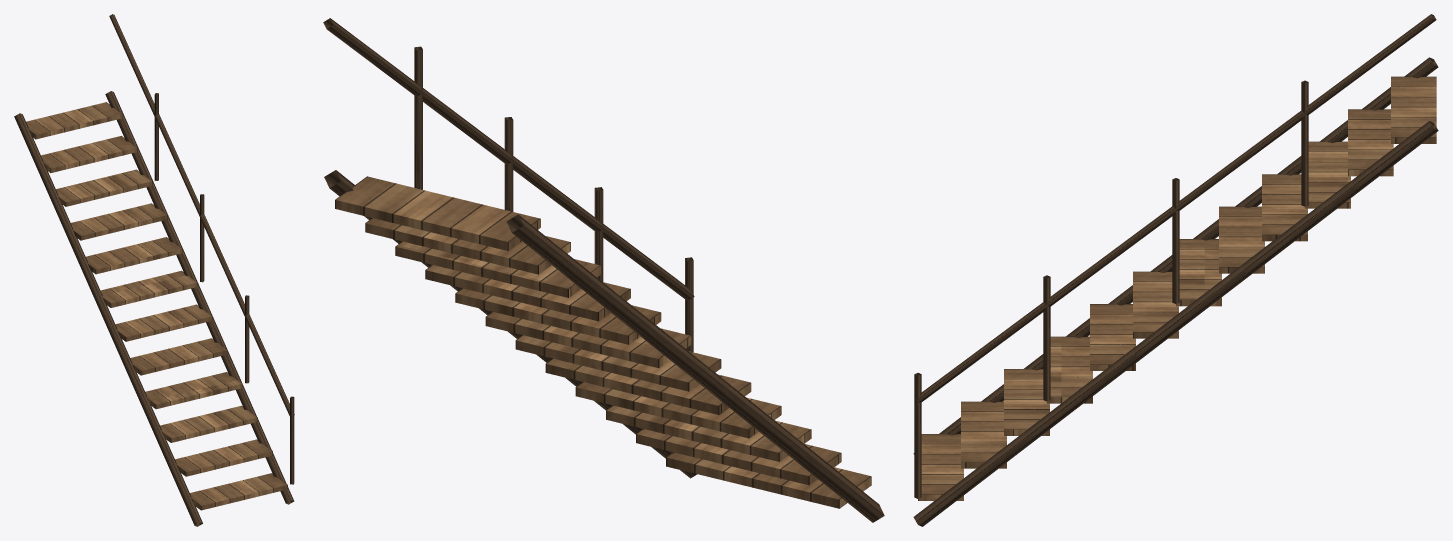
File: Stairs_Gallery_1_LOD1.gltf
3 views of the same model, side by side, from view 1: azimuth 30°, elevation 25°; view 2: azimuth 150°, elevation 25°; view 3: azimuth 270°, elevation 25° (orthographic). The views are drawn at different scales.
Visible parts, largest first — view 1: Stairs_Gallery_1_LOD1; view 2: Stairs_Gallery_1_LOD1; view 3: Stairs_Gallery_1_LOD1.
Part boxes in pixels (<box>): Stairs_Gallery_1_LOD1: <box>14,14,294,526</box>; Stairs_Gallery_1_LOD1: <box>323,18,884,522</box>; Stairs_Gallery_1_LOD1: <box>913,14,1438,526</box>.
Bounding box in the file's own units: 1.15 × 3.96 × 3.66.
Materials: 2 (2 with a texture image).
